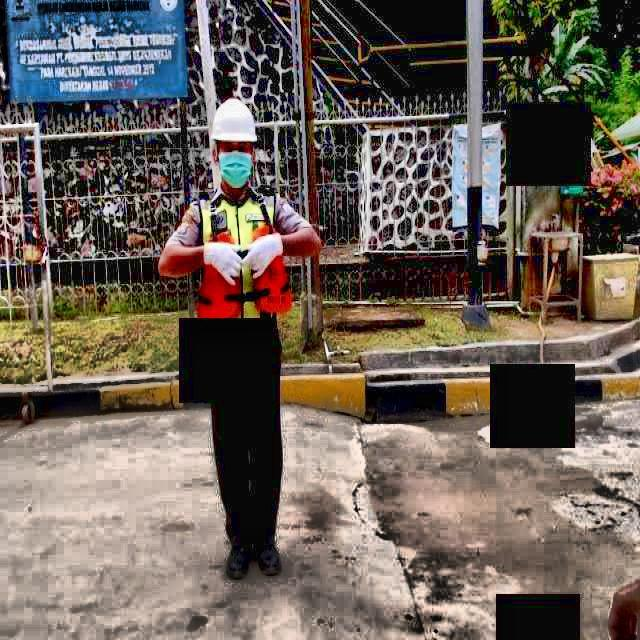safety_helmet: (211, 97, 258, 145)
safety_jacket: (200, 193, 291, 341)
